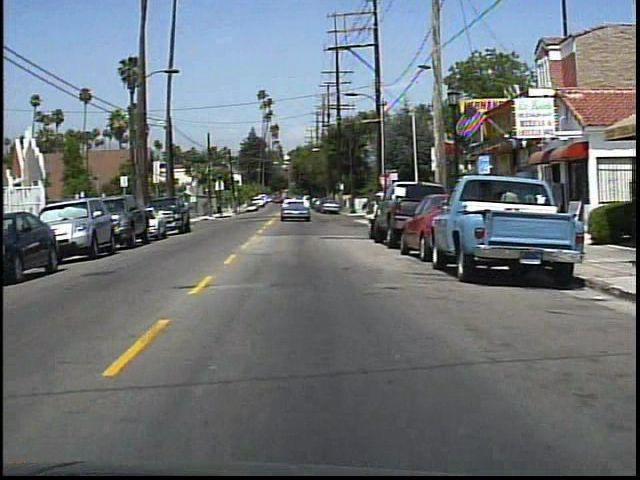person: (499, 181, 523, 234)
